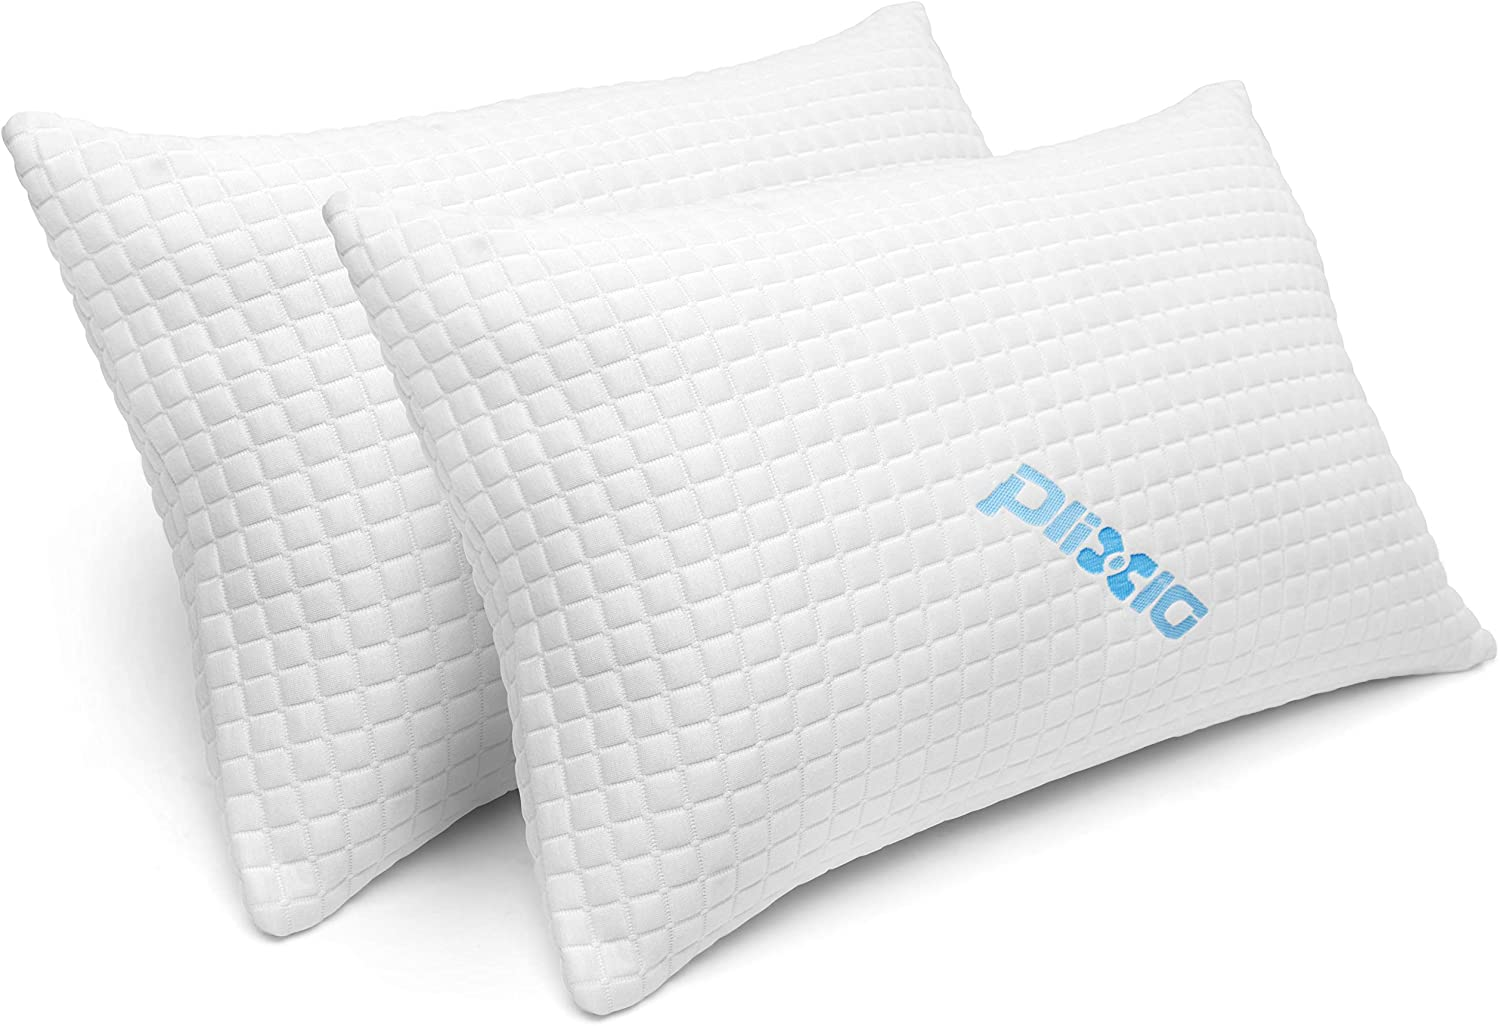bantal: (318, 84, 1498, 999), (11, 106, 495, 929)
